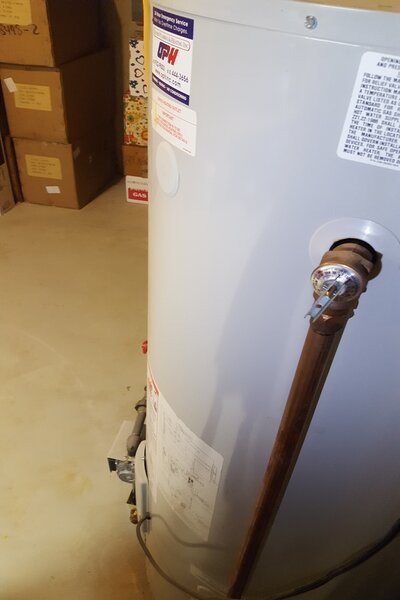valve: (305, 239, 369, 345)
